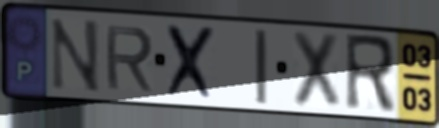I: (252, 27, 270, 106)
N: (48, 16, 103, 95)
R: (343, 31, 398, 116), (103, 24, 156, 94)
X: (164, 22, 221, 104), (290, 28, 343, 112)
